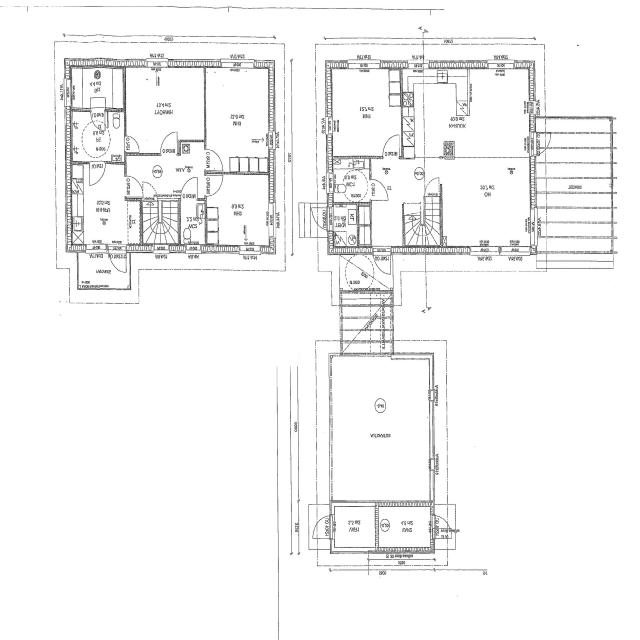door: (373, 246, 391, 278), (308, 208, 333, 230), (109, 244, 126, 275), (530, 132, 553, 154), (312, 516, 334, 539), (430, 516, 452, 538), (383, 135, 399, 159), (370, 179, 388, 200), (124, 176, 142, 197), (161, 132, 177, 155), (181, 177, 197, 200), (205, 175, 222, 196), (90, 162, 106, 184), (205, 150, 222, 170), (91, 110, 105, 130), (125, 136, 138, 152)
